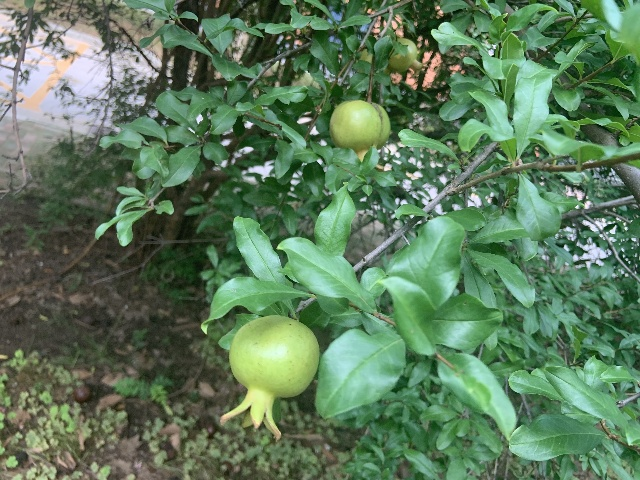mid-growth: (219, 314, 320, 442), (329, 99, 390, 170), (388, 38, 431, 78)
